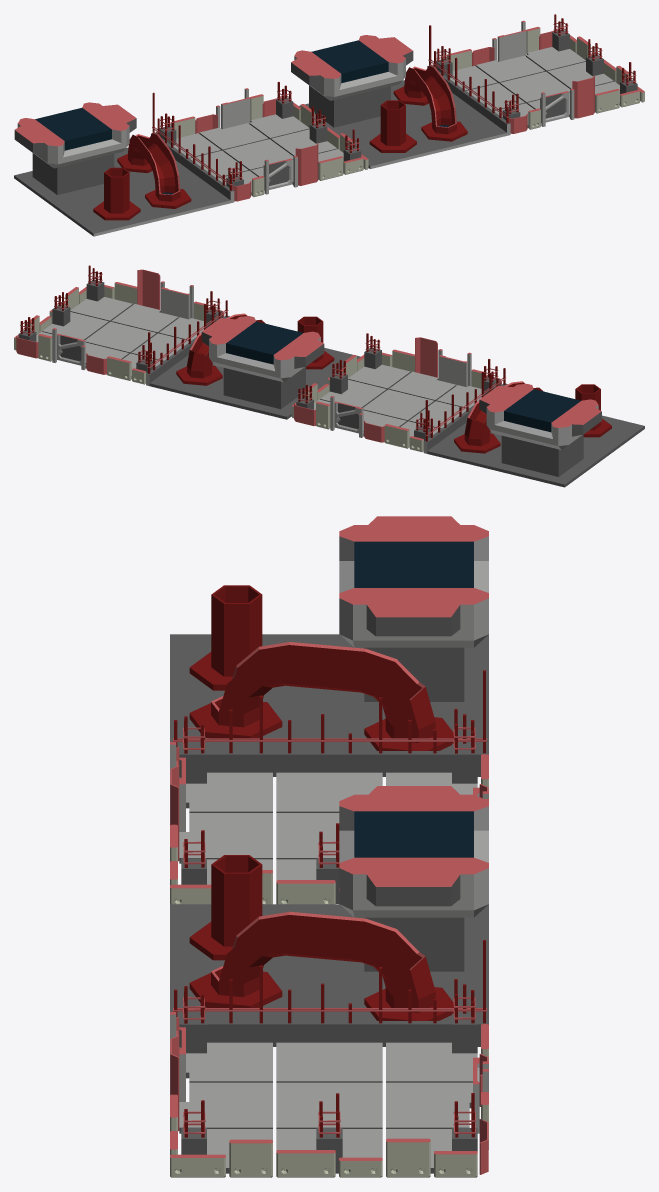
File: Foundations_20x5x5_13_6_2016.fbx
3 renders of one model, top to bottom at view 1: azimuth 30°, elevation 25°; view 2: azimuth 150°, elevation 25°; view 3: azimuth 270°, elevation 25°, orthographic. The views are drawn at different scales.
Visible parts, largest first — view 1: Foundations_20x5x5; view 2: Foundations_20x5x5; view 3: Foundations_20x5x5.
Boxes of the visible parts, <box> form: Foundations_20x5x5: <box>14,14,644,236</box>; Foundations_20x5x5: <box>14,265,644,487</box>; Foundations_20x5x5: <box>170,516,488,1177</box>.
Bounding box in the file's own units: 2028 × 199 × 500.
